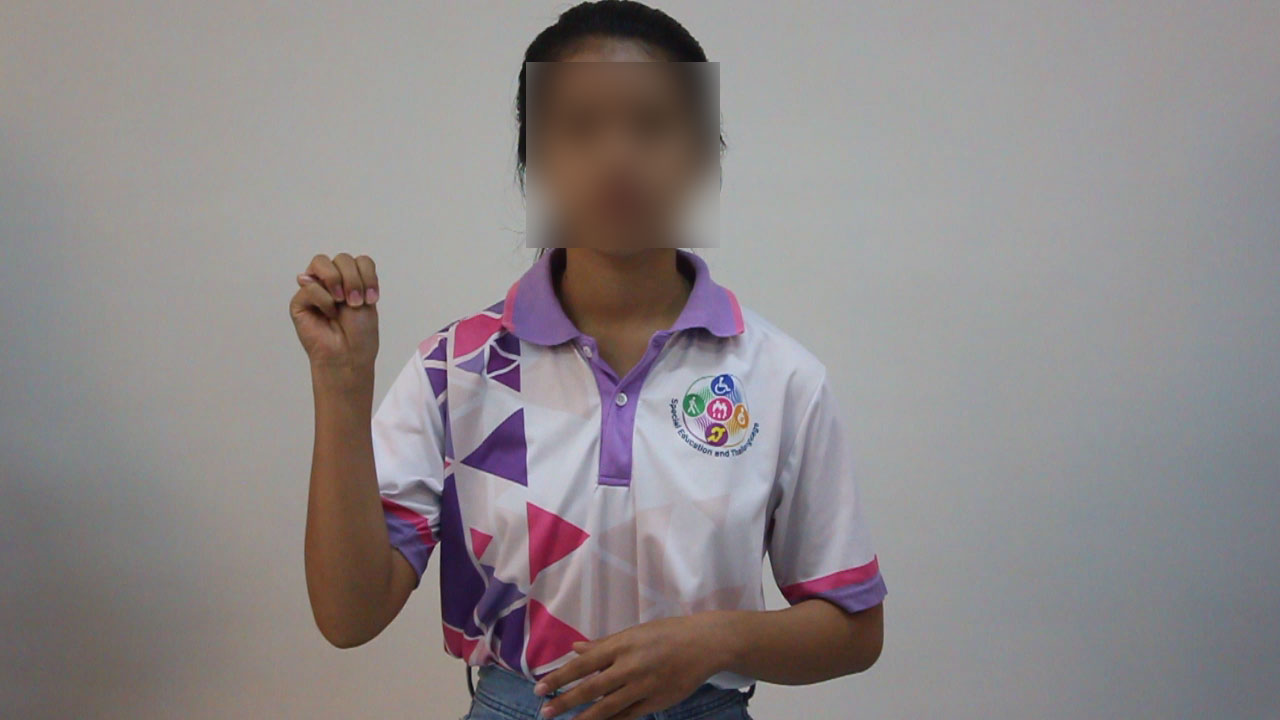mor: (285, 227, 402, 391)
